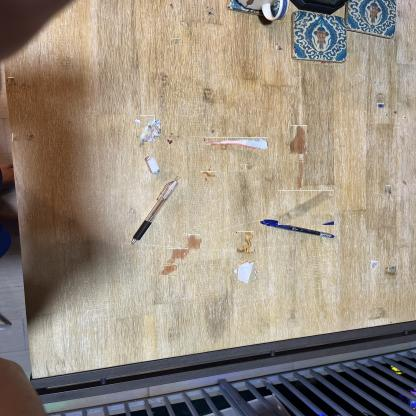dirty: (278, 190, 334, 225), (204, 137, 268, 150), (137, 118, 158, 139), (236, 261, 257, 281), (236, 231, 254, 254), (202, 169, 215, 181)
liquid: (289, 125, 307, 154), (167, 248, 189, 263), (296, 160, 304, 188), (188, 235, 201, 249), (159, 265, 177, 275), (245, 163, 252, 169)
mark: (8, 78, 15, 86), (12, 134, 20, 141), (385, 185, 391, 194), (371, 261, 378, 268), (389, 266, 396, 273), (173, 38, 180, 45), (28, 133, 34, 141), (206, 9, 214, 15), (276, 44, 283, 50), (402, 180, 408, 186), (377, 103, 384, 108), (392, 110, 398, 114), (377, 272, 383, 276), (168, 139, 172, 143), (170, 4, 174, 8), (384, 112, 388, 116), (403, 116, 407, 119)
